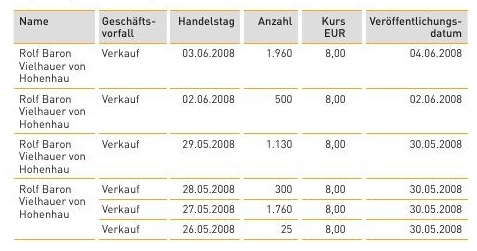table: (0, 0, 477, 251)
